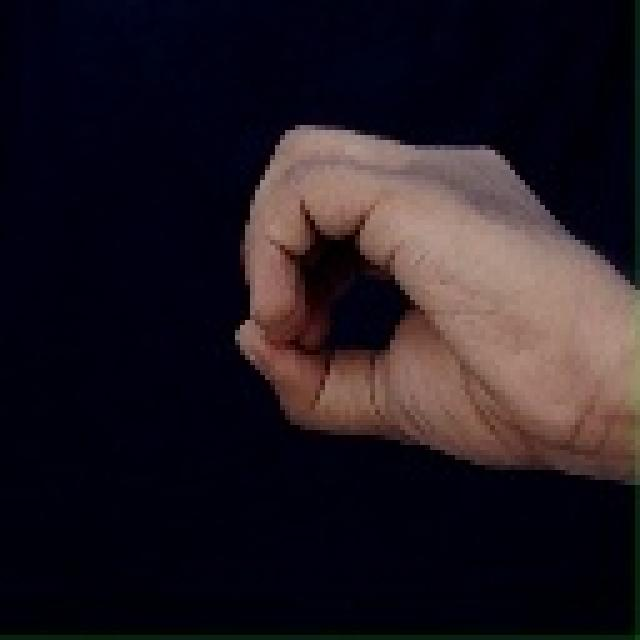Y: (220, 110, 635, 485)
